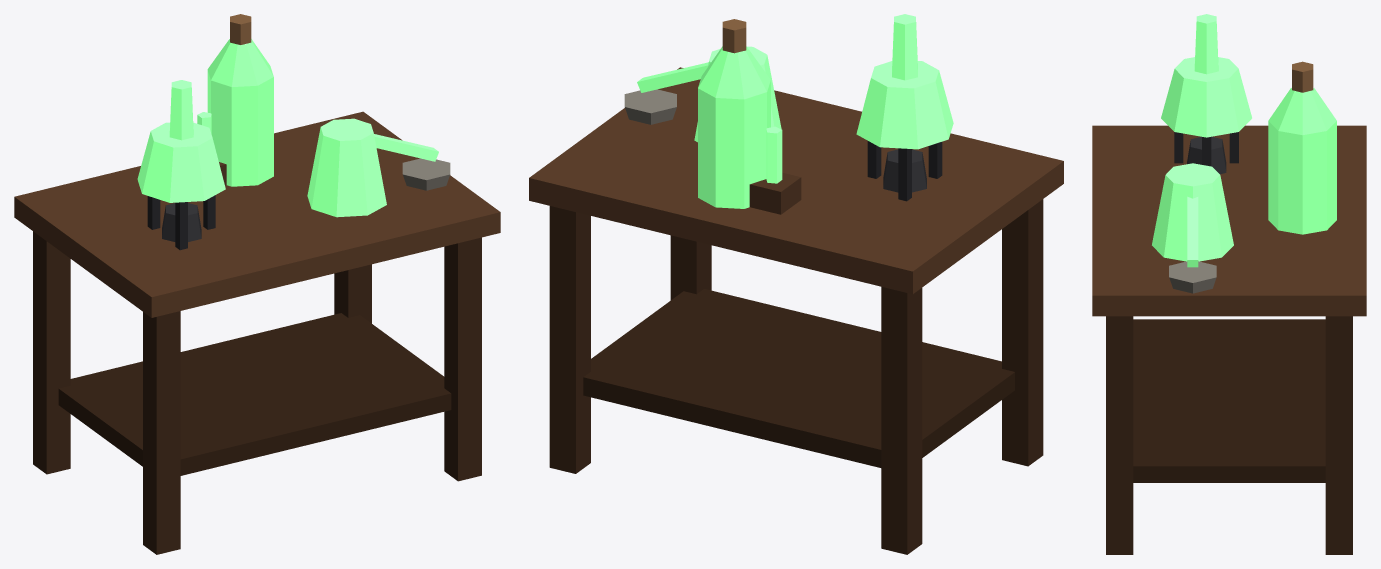
The model's file is chemistry_set.glb.
3 views of the same model, side by side, from view 1: azimuth 30°, elevation 25°; view 2: azimuth 150°, elevation 25°; view 3: azimuth 270°, elevation 25° (orthographic). The views are drawn at different scales.
Visible parts, largest first — view 1: chemistry_set; view 2: chemistry_set; view 3: chemistry_set.
Part boxes in pixels (<box>): chemistry_set: <box>14,14,500,554</box>; chemistry_set: <box>529,14,1063,554</box>; chemistry_set: <box>1092,14,1366,554</box>.
Size of the model in its own units: 0.88 by 1.01 by 0.6.
